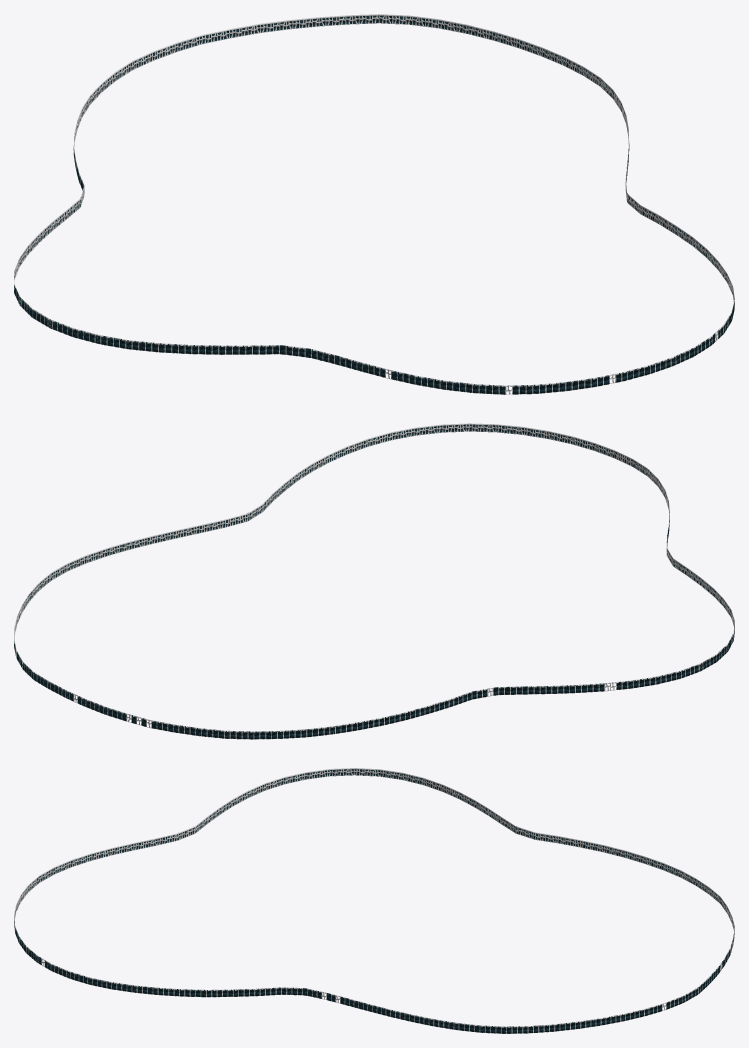
The model's file is Kompan Facade Fence.fbx.
3 renders of one model, top to bottom at view 1: azimuth 30°, elevation 25°; view 2: azimuth 150°, elevation 25°; view 3: azimuth 270°, elevation 25°, orthographic. The views are drawn at different scales.
Visible parts, largest first — view 1: Kompan Facade; view 2: Kompan Facade; view 3: Kompan Facade.
Part boxes in pixels (left/top/right/bottom): Kompan Facade: left=14, top=14, right=734, bottom=394; Kompan Facade: left=14, top=423, right=734, bottom=739; Kompan Facade: left=14, top=768, right=734, bottom=1033.
Bounding box in the file's own units: 18161 × 240 × 21394.
